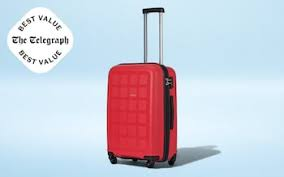suitcase: (103, 5, 179, 170)
